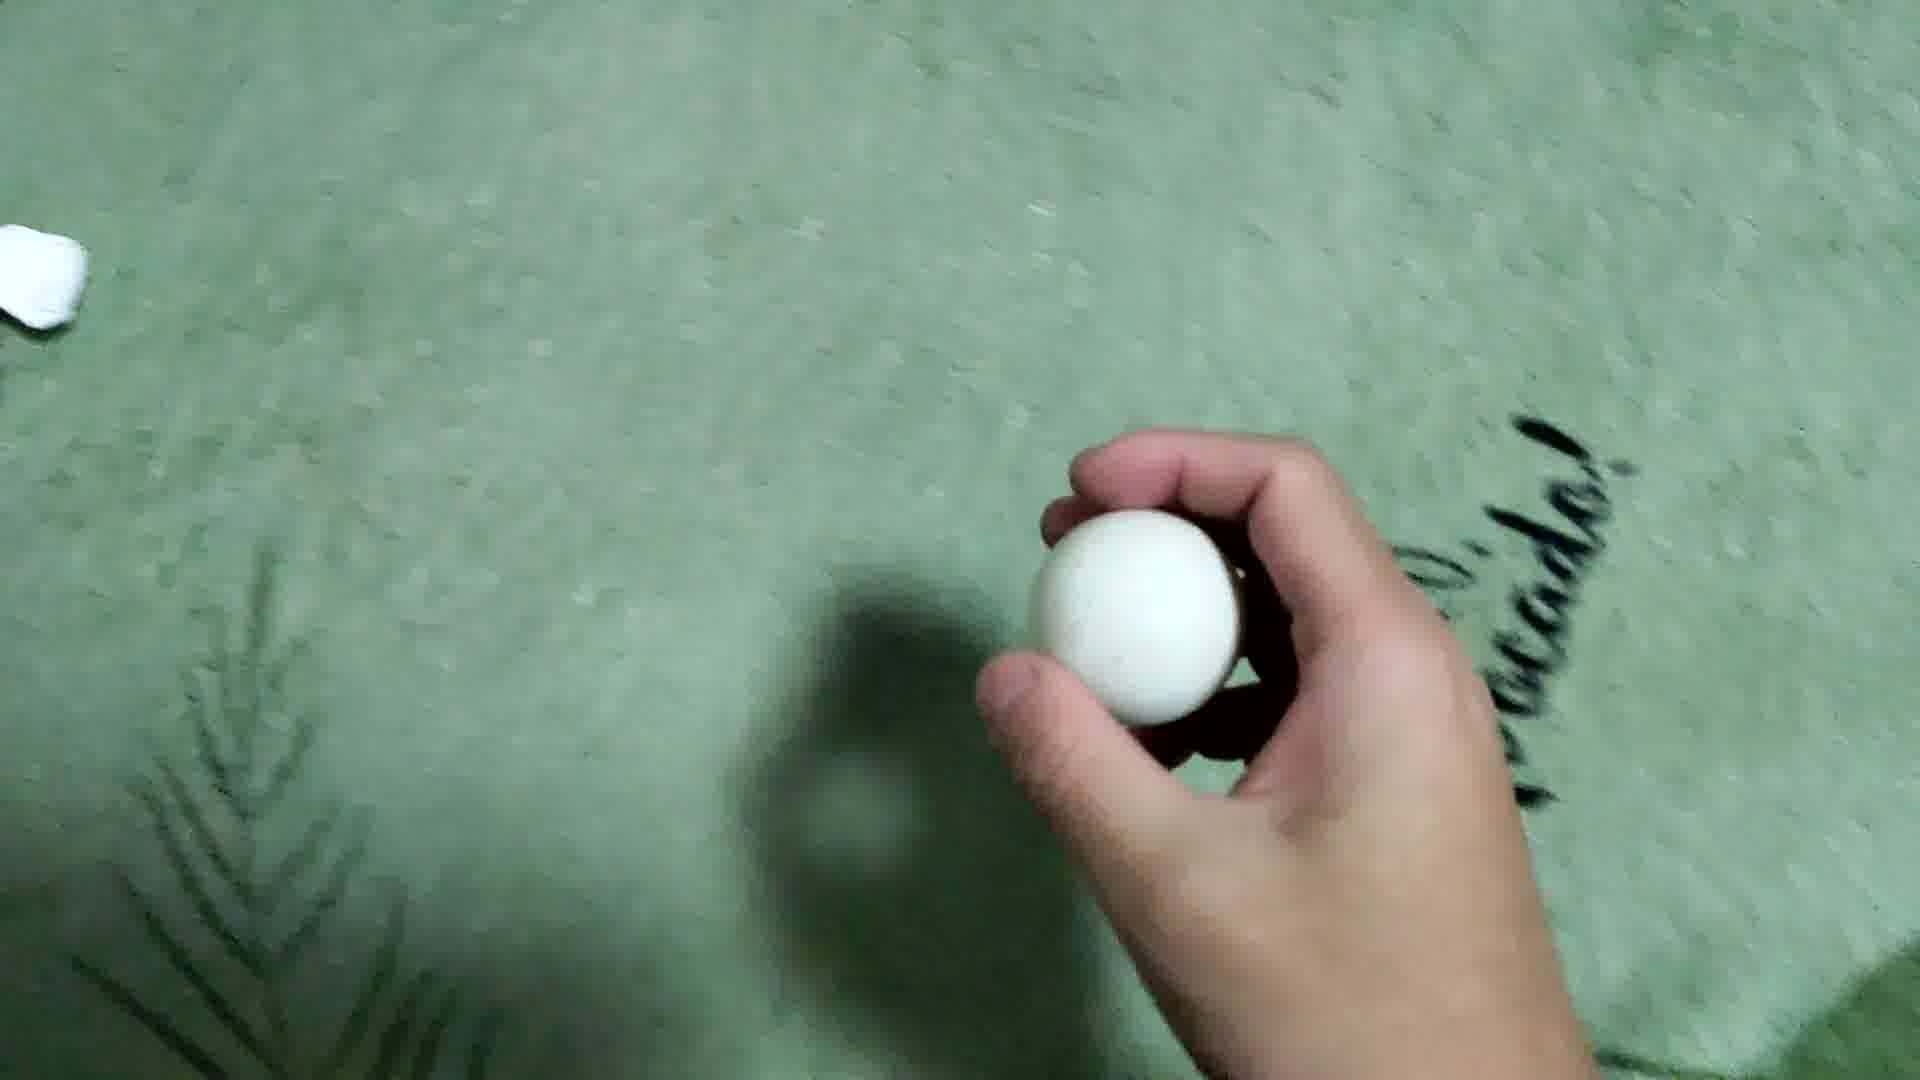Ball: (1030, 508, 1238, 724)
